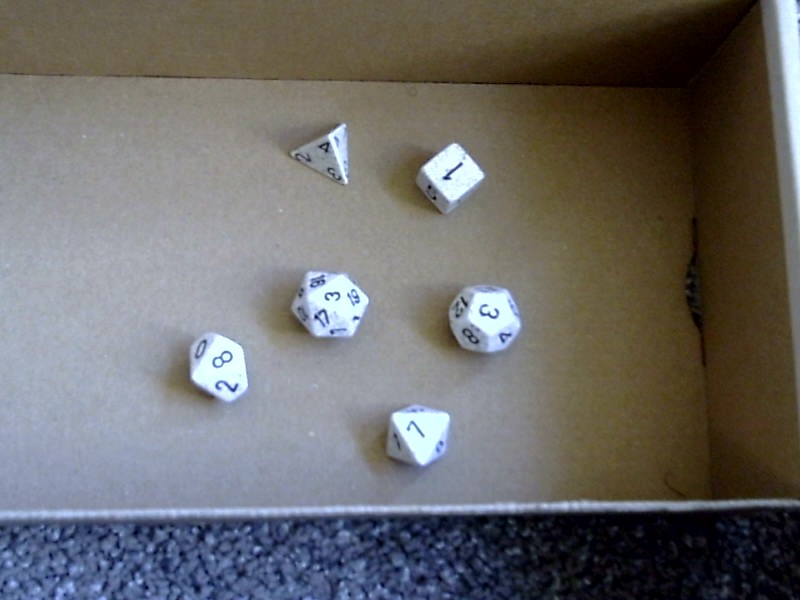d10 8: (182, 324, 255, 417)
d12 3: (441, 279, 524, 362)
d20 3: (285, 261, 372, 346)
d4 4: (282, 116, 359, 190)
d6 1: (409, 135, 489, 217)
d8 7: (379, 402, 458, 473)
